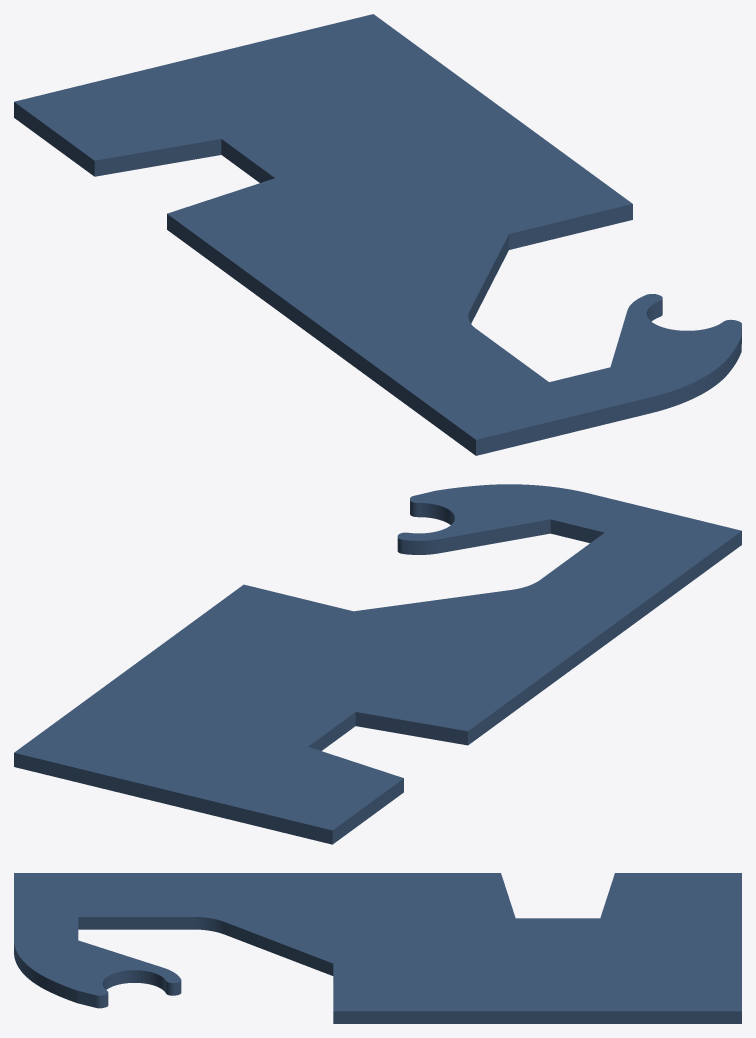
The model's file is VERGE_Model_Refrigerator_4.obj.
3 renders of one model, top to bottom at view 1: azimuth 30°, elevation 25°; view 2: azimuth 150°, elevation 25°; view 3: azimuth 270°, elevation 25°, orthographic. The views are drawn at different scales.
Parts seen in each view (by area): view 1: VERGE_Model_Refrigerator_4; view 2: VERGE_Model_Refrigerator_4; view 3: VERGE_Model_Refrigerator_4.
Part boxes in pixels (x1,y1,x2,y2): VERGE_Model_Refrigerator_4: (14, 14, 741, 455); VERGE_Model_Refrigerator_4: (14, 484, 741, 844); VERGE_Model_Refrigerator_4: (14, 873, 741, 1023).
Bounding box in the file's own units: 70.35 × 3 × 157.
